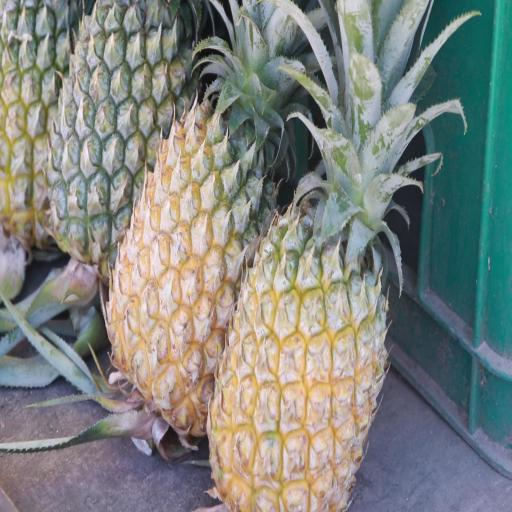------------------------------: (0, 0, 68, 248)
Pineapple - v8 v1: (202, 169, 381, 512), (111, 87, 260, 442)
